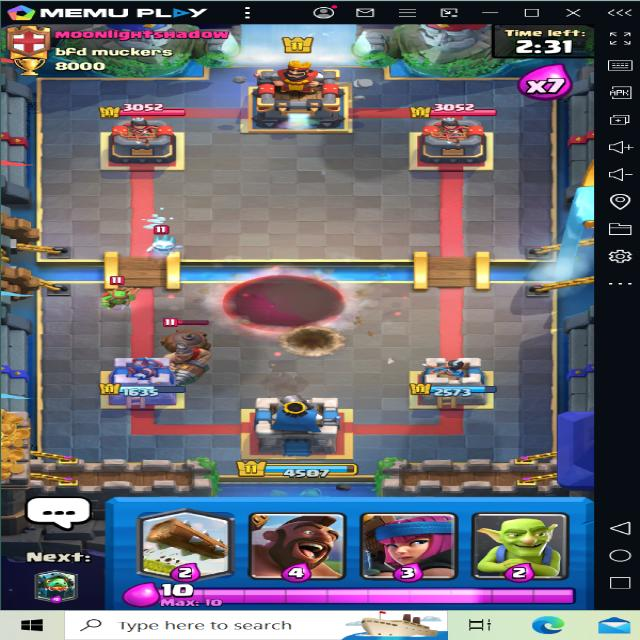ice-spirit: (144, 227, 183, 260)
mighty-miner: (150, 310, 237, 379)
spear-goblin: (98, 286, 139, 311)
void: (223, 276, 346, 330)
